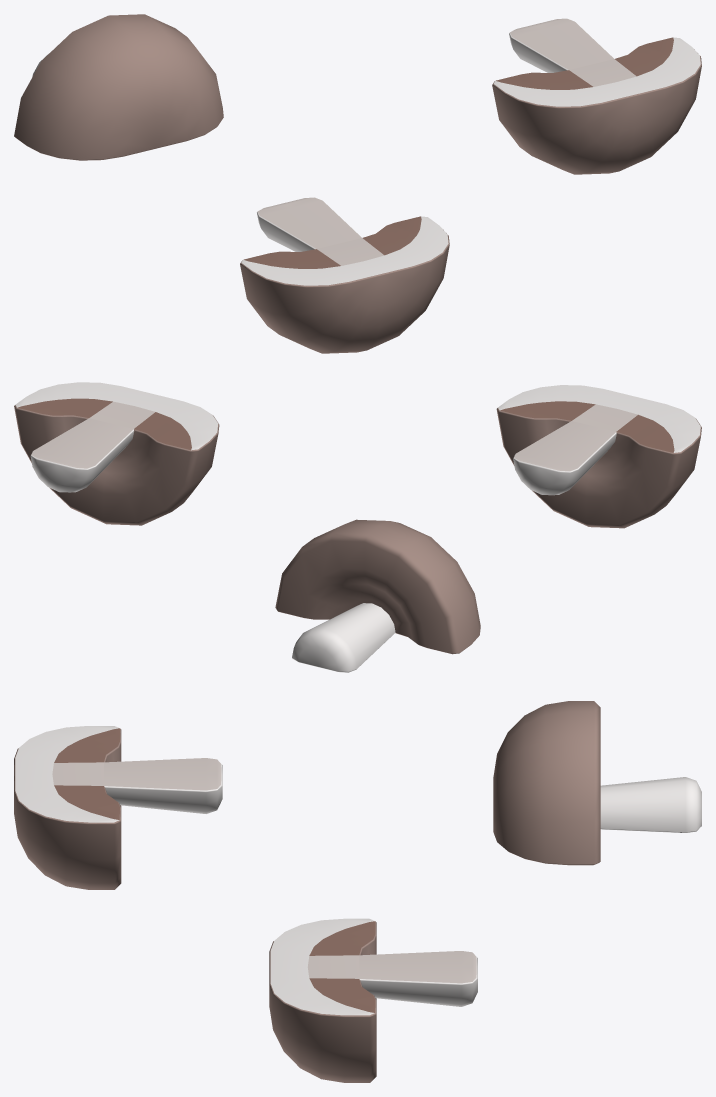
The model's file is mushroom.glb.
3 renders of one model, top to bottom at view 1: azimuth 30°, elevation 25°; view 2: azimuth 150°, elevation 25°; view 3: azimuth 270°, elevation 25°, orthographic. The views are drawn at different scales.
Parts seen in each view (by area): view 1: Champignon_Mushroom_Half.002, Champignon_Mushroom_Half.001, Champignon_Mushroom_Half; view 2: Champignon_Mushroom_Half, Champignon_Mushroom_Half.002, Champignon_Mushroom_Half.001; view 3: Champignon_Mushroom_Half.002, Champignon_Mushroom_Half.001, Champignon_Mushroom_Half.
Part boxes in pixels (x1,y1,x2,y2): Champignon_Mushroom_Half.002: [492, 18, 701, 174]; Champignon_Mushroom_Half.001: [240, 197, 449, 353]; Champignon_Mushroom_Half: [14, 14, 223, 160]; Champignon_Mushroom_Half: [275, 519, 480, 672]; Champignon_Mushroom_Half.002: [14, 382, 219, 525]; Champignon_Mushroom_Half.001: [496, 385, 701, 528]; Champignon_Mushroom_Half.002: [269, 918, 477, 1082]; Champignon_Mushroom_Half.001: [14, 726, 222, 889]; Champignon_Mushroom_Half: [493, 701, 701, 865].
Size of the model in its own units: 0.3437 by 0.0924 by 0.3438.
1 material, 1 textured.
